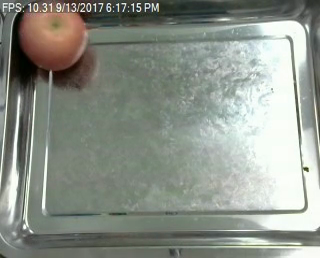Apple: (19, 1, 88, 69)
